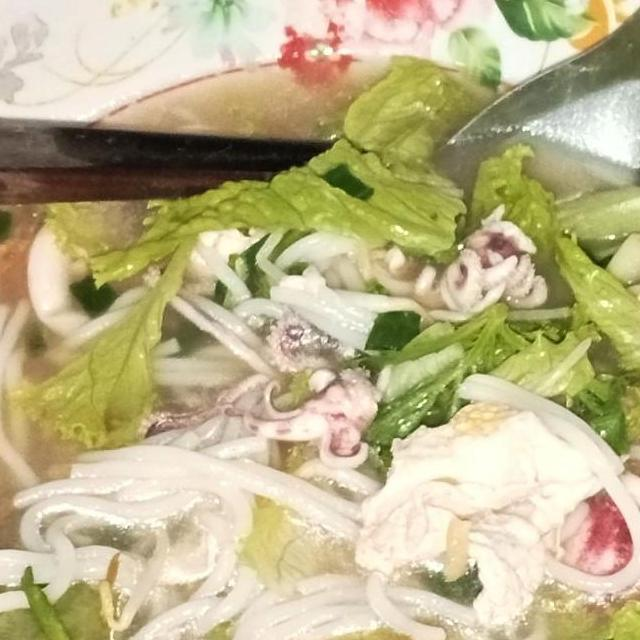bun: (0, 359, 640, 640), (133, 203, 414, 403), (0, 251, 54, 503)
muc: (130, 298, 386, 478), (380, 197, 558, 329), (16, 216, 152, 348), (543, 470, 640, 603)
trung: (350, 394, 624, 634)
